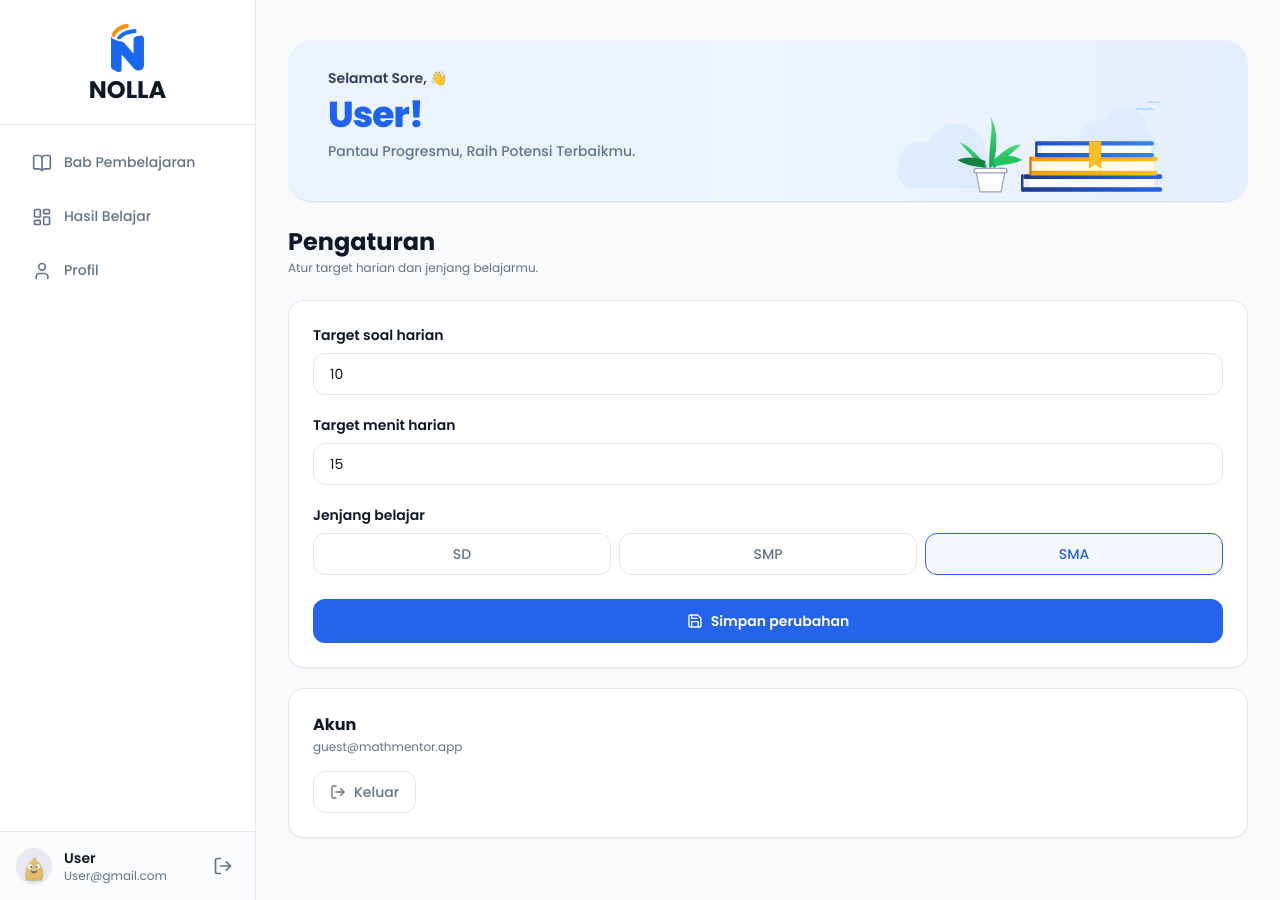
Settings › menampilkan teks "Tersimpan!" setelah tombol simpan diklik
Click the button "Simpan perubahan": click(768, 621) [313,599,1223,643]
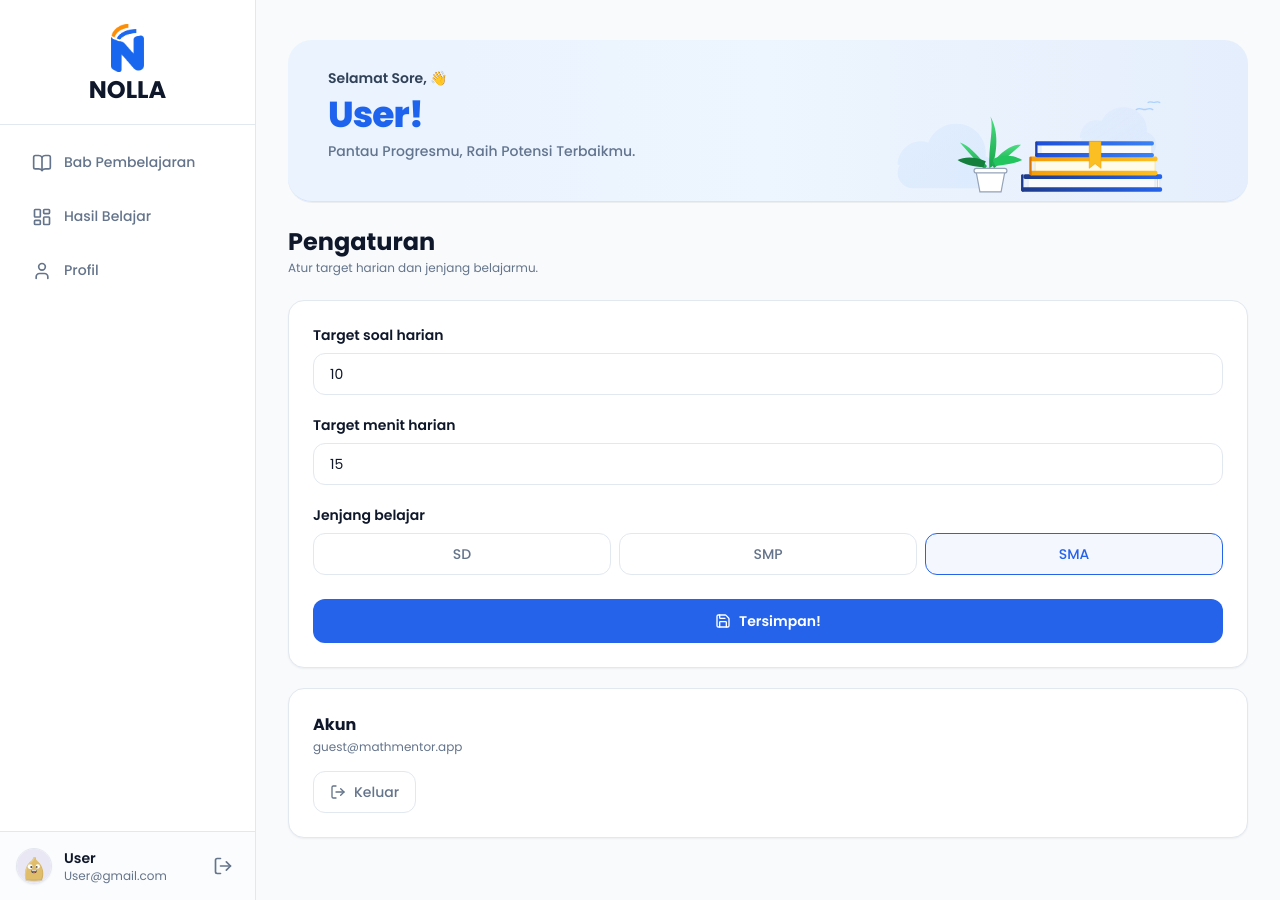
Now the button "Tersimpan!" is shown, box [313,599,1223,643]
